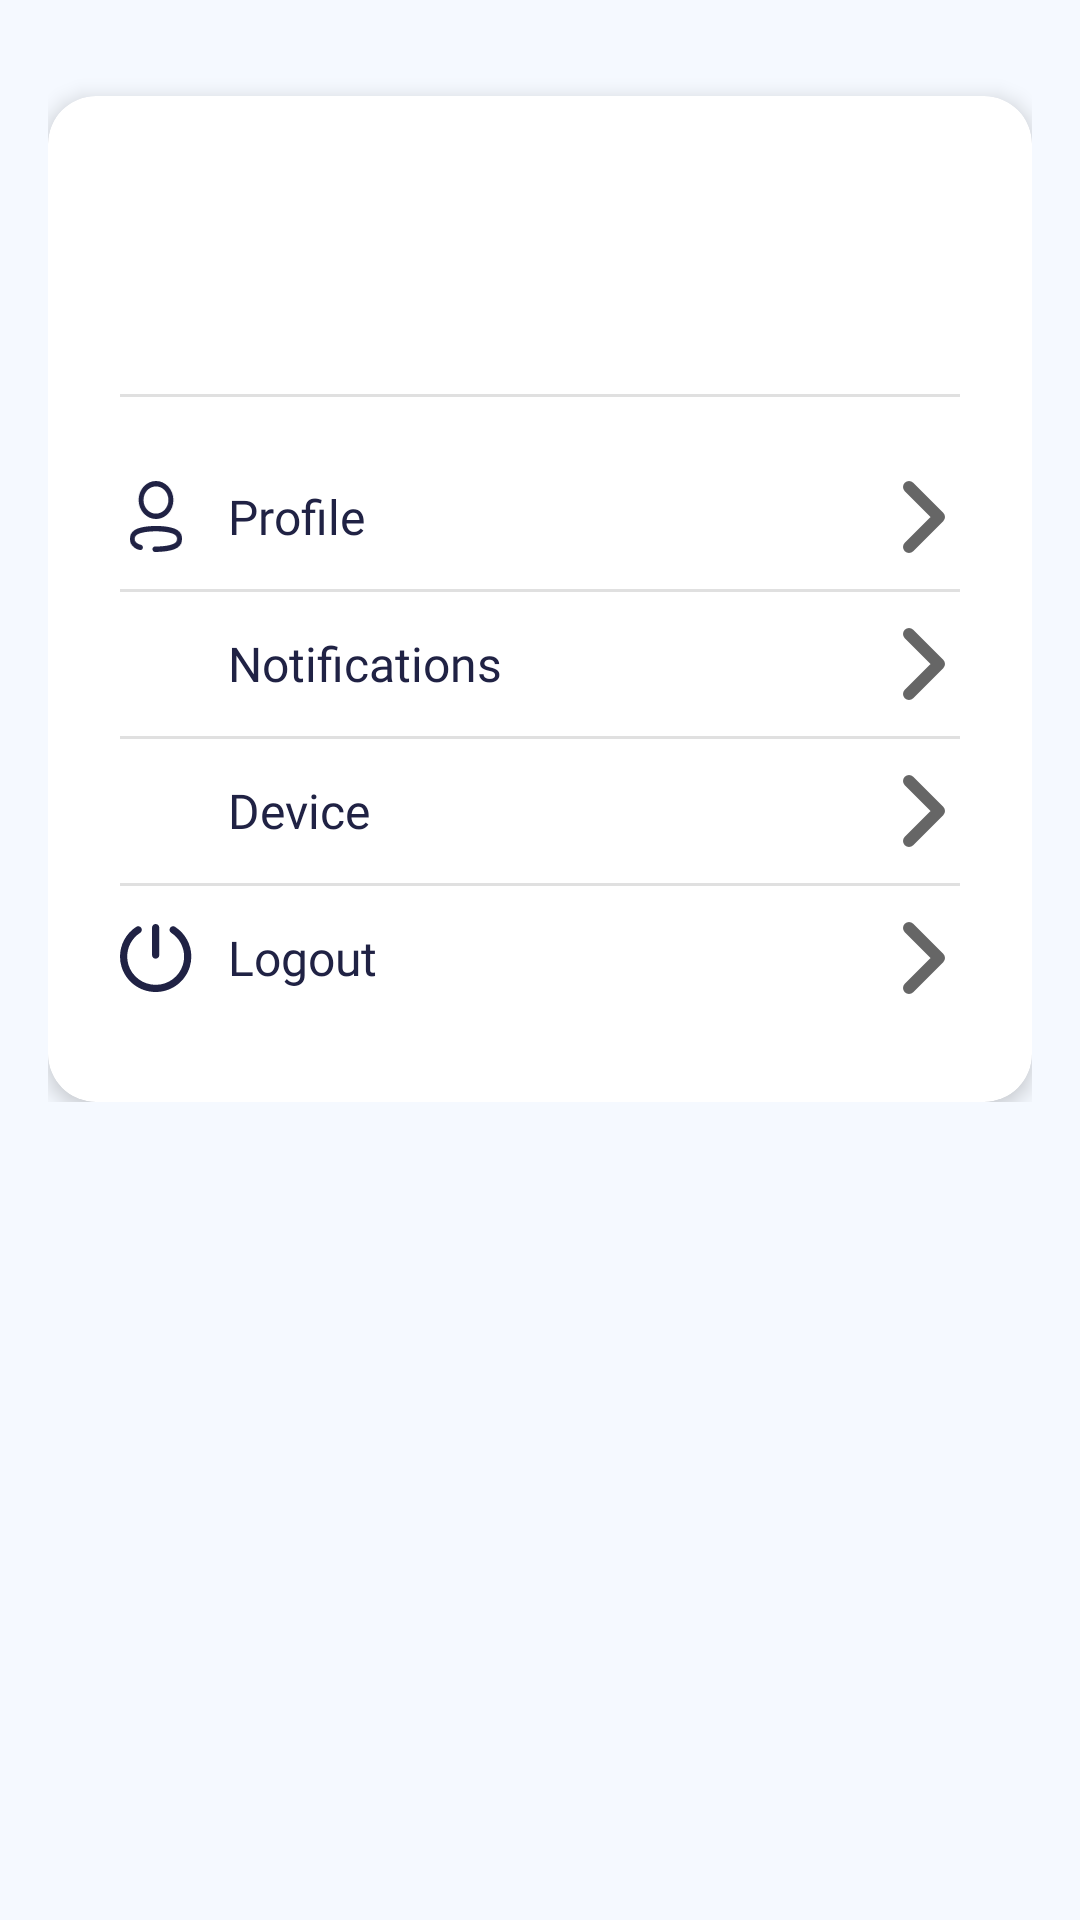

Screen size 1080w x 1920h. Icon name, then its center in pixels as (x,y):
arrow right detail: (924,517), (924,664), (924,811), (924,958)
